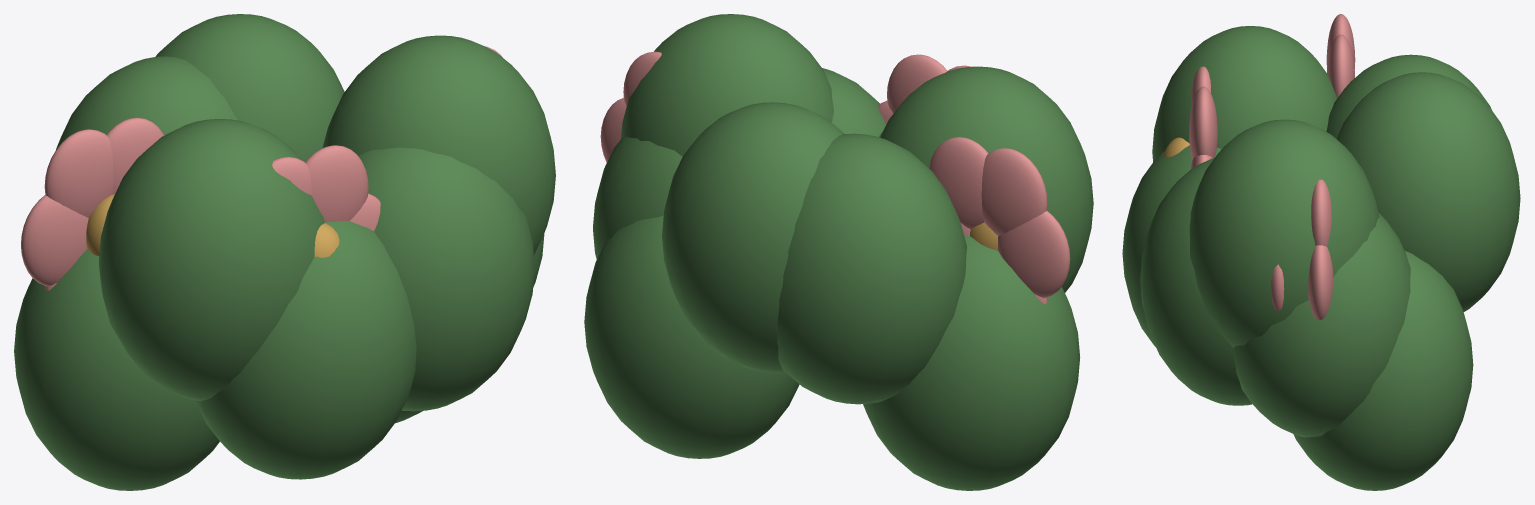
The model's file is wp-buisson-fleuri.glb.
The picture shows the model from 3 angles, left to right: view 1: azimuth 30°, elevation 25°; view 2: azimuth 150°, elevation 25°; view 3: azimuth 270°, elevation 25°; orthographic projection. The views are drawn at different scales.
Parts seen in each view (by area): view 1: wp-buisson-fleuri; view 2: wp-buisson-fleuri; view 3: wp-buisson-fleuri.
Part boxes in pixels (left/top/right/bottom): wp-buisson-fleuri: left=14, top=14, right=555, bottom=490; wp-buisson-fleuri: left=584, top=14, right=1093, bottom=490; wp-buisson-fleuri: left=1122, top=14, right=1520, bottom=490.
Size of the model in its own units: 0.9 by 0.7 by 0.7.
